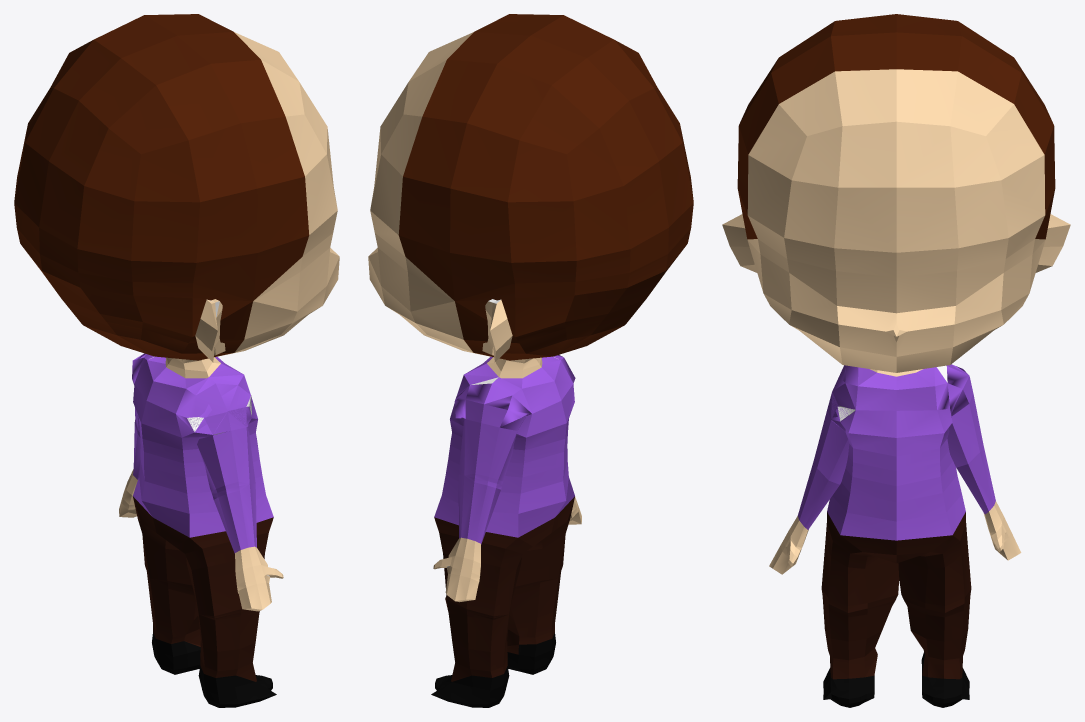
The picture shows the model from 3 angles, left to right: view 1: azimuth 30°, elevation 25°; view 2: azimuth 150°, elevation 25°; view 3: azimuth 270°, elevation 25°; orthographic projection.
Parts seen in each view (by area): view 1: head2; view 2: head2; view 3: head2.
Part boxes in pixels (bbox=[...]): head2: bbox=[14, 14, 339, 707]; head2: bbox=[368, 14, 693, 707]; head2: bbox=[722, 14, 1070, 707].
Size of the model in its own units: 5.95 by 12.96 by 6.35.
6 materials, 1 textured.
